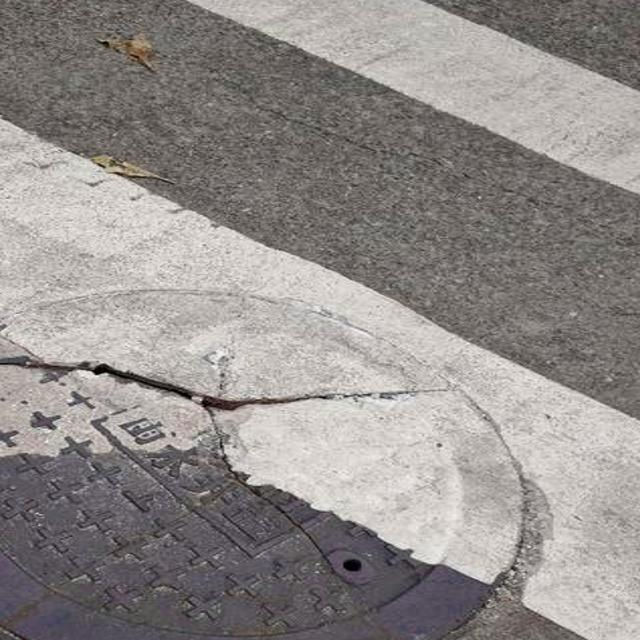broke: (0, 264, 579, 640)
